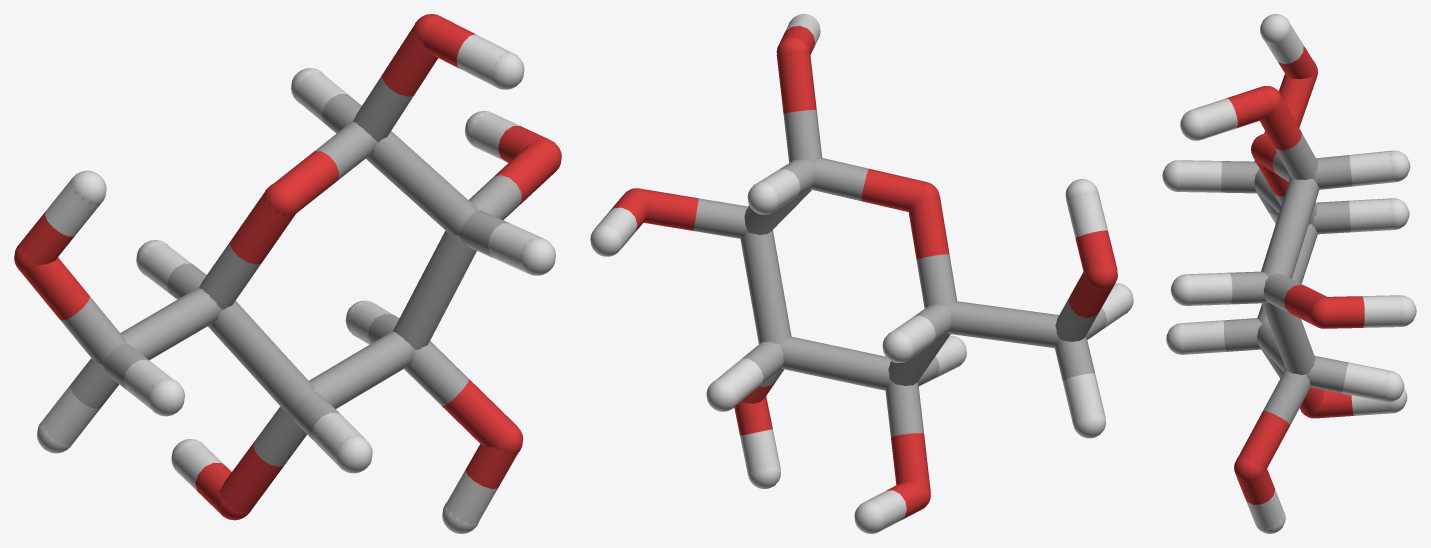
The model's file is glucose-sticks.glb.
The picture shows the model from 3 angles, left to right: view 1: azimuth 30°, elevation 25°; view 2: azimuth 150°, elevation 25°; view 3: azimuth 270°, elevation 25°; orthographic projection. The views are drawn at different scales.
Parts seen in each view (by area): view 1: glucose-sticks; view 2: glucose-sticks; view 3: glucose-sticks.
Boxes of the visible parts, bbox=[...] form: glucose-sticks: bbox=[14, 14, 561, 533]; glucose-sticks: bbox=[590, 14, 1133, 533]; glucose-sticks: bbox=[1162, 14, 1416, 533].
Size of the model in its own units: 6.64 by 5.99 by 3.19.
